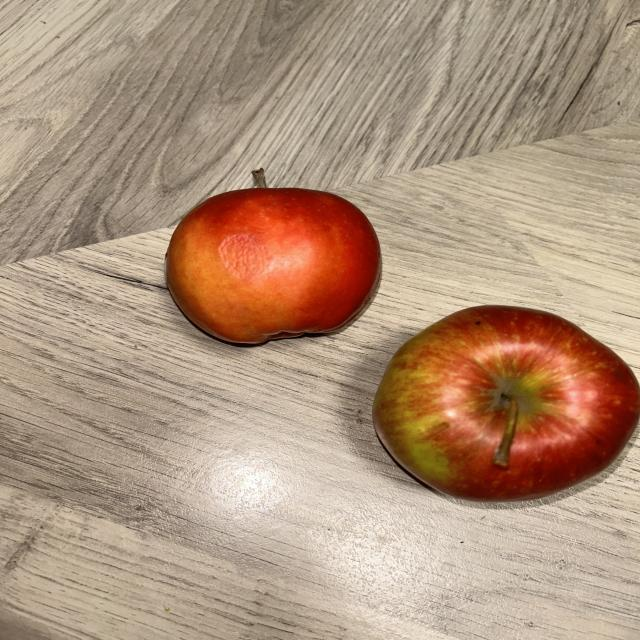apple: (373, 305, 638, 501), (167, 169, 380, 344)
